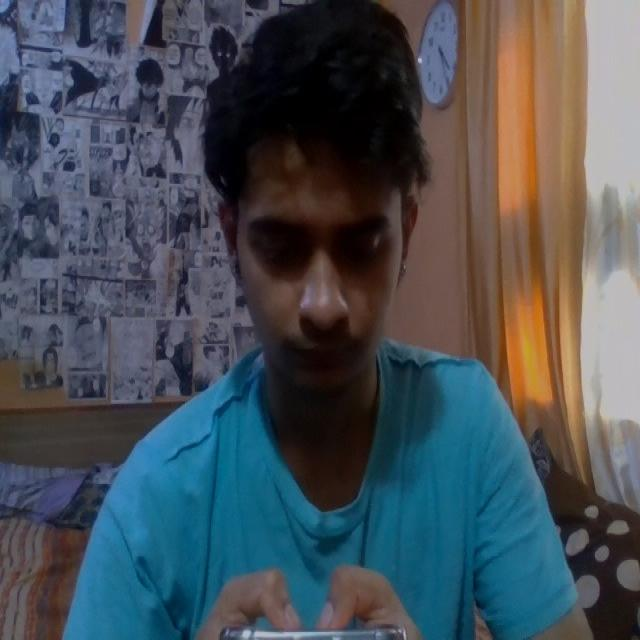phone: (222, 620, 417, 639)
using-phone: (49, 11, 603, 640)
